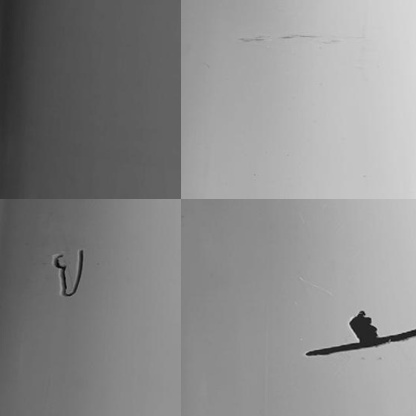fengxi: (307, 330, 413, 358), (48, 246, 91, 302)
kongdong: (346, 307, 379, 338)
